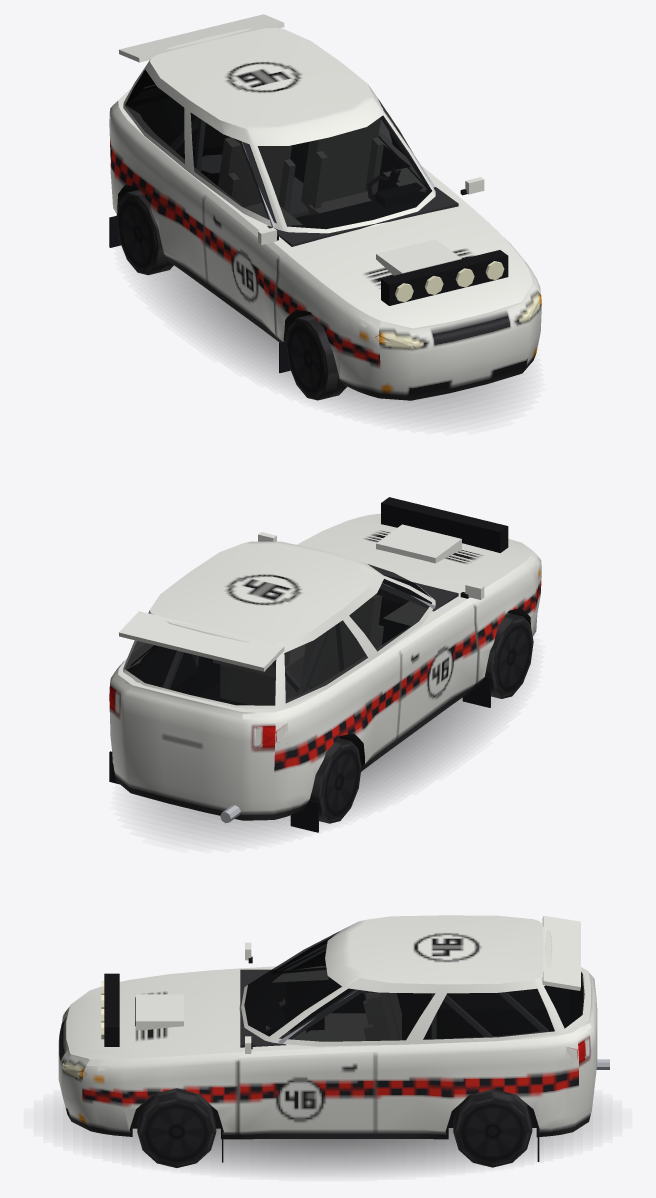
File: corisco.glb
The picture shows the model from 3 angles, top to bottom: view 1: azimuth 30°, elevation 25°; view 2: azimuth 150°, elevation 25°; view 3: azimuth 270°, elevation 25°; orthographic projection. The views are drawn at different scales.
Visible parts, largest first — view 1: Carroceria, Interior, Capo_malha, Porta_D_malha, Sombra, Roda_DD, Roda_TD, Tampa_malha, Farol, Porta_E_malha; view 2: Carroceria, Tampa_malha, Capo_malha, Interior, Porta_D_malha, Sombra, Roda_TD, Roda_DD, Lanterna; view 3: Carroceria, Interior, Porta_E_malha, Capo_malha, Sombra, Roda_DE, Roda_TE, Tampa_malha, Porta_D_malha.
Part boxes in pixels (<box>): Carroceria: <box>109,27,541,400</box>; Interior: <box>126,88,458,246</box>; Capo_malha: <box>298,214,537,328</box>; Porta_D_malha: <box>203,125,283,336</box>; Sombra: <box>145,266,519,420</box>; Roda_DD: <box>286,314,346,400</box>; Roda_TD: <box>116,189,173,275</box>; Tampa_malha: <box>119,14,284,103</box>; Farol: <box>375,295,541,349</box>; Porta_E_malha: <box>371,92,484,195</box>; Carroceria: <box>109,520,541,832</box>; Tampa_malha: <box>118,611,284,801</box>; Capo_malha: <box>303,497,537,588</box>; Interior: <box>127,576,458,704</box>; Porta_D_malha: <box>371,573,484,736</box>; Sombra: <box>139,696,509,838</box>; Roda_TD: <box>309,738,361,823</box>; Roda_DD: <box>485,613,533,698</box>; Lanterna: <box>109,692,287,747</box>; Carroceria: <box>58,915,609,1162</box>; Interior: <box>141,944,582,1104</box>; Porta_E_malha: <box>238,978,375,1133</box>; Capo_malha: <box>71,972,222,1066</box>; Sombra: <box>63,1106,592,1173</box>; Roda_DE: <box>137,1088,216,1167</box>; Roda_TE: <box>453,1089,532,1167</box>; Tampa_malha: <box>539,915,597,1105</box>; Porta_D_malha: <box>245,937,331,972</box>.
Bounding box in the file's own units: 2.42 × 1.51 × 4.93.
14 materials, 5 textured.
